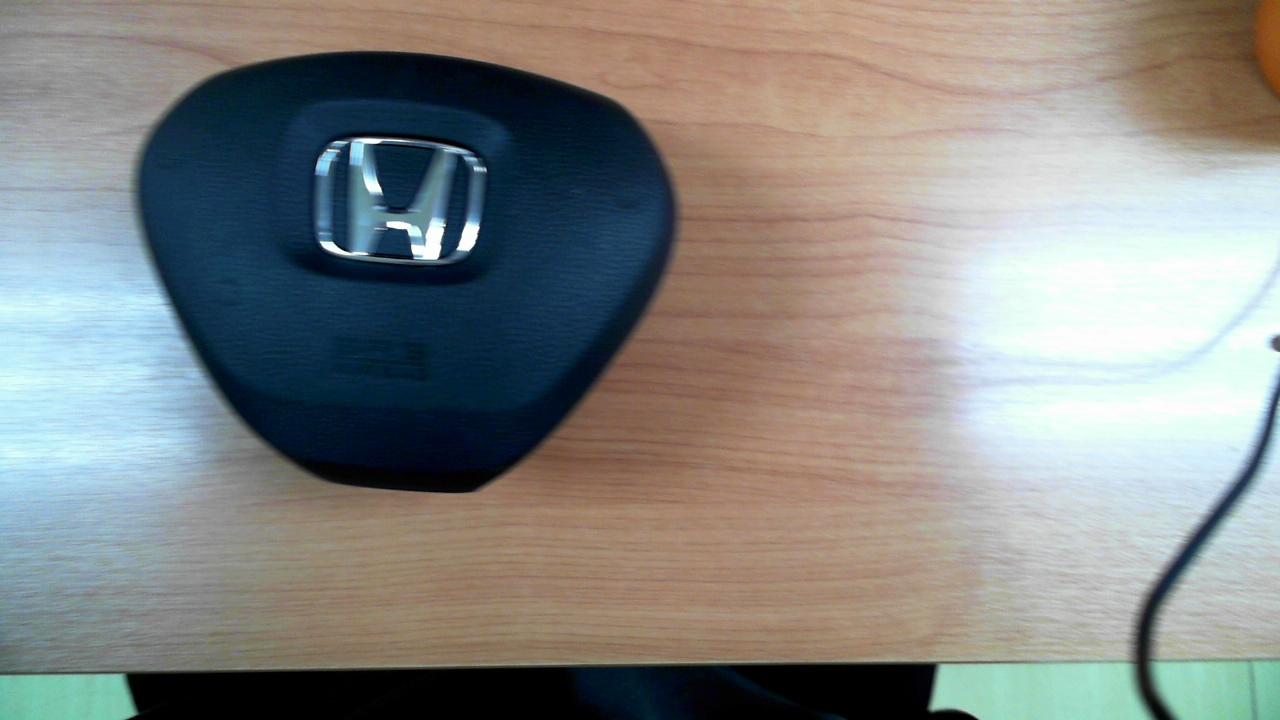Airbag: (134, 51, 677, 494)
Honda: (314, 138, 488, 261)
